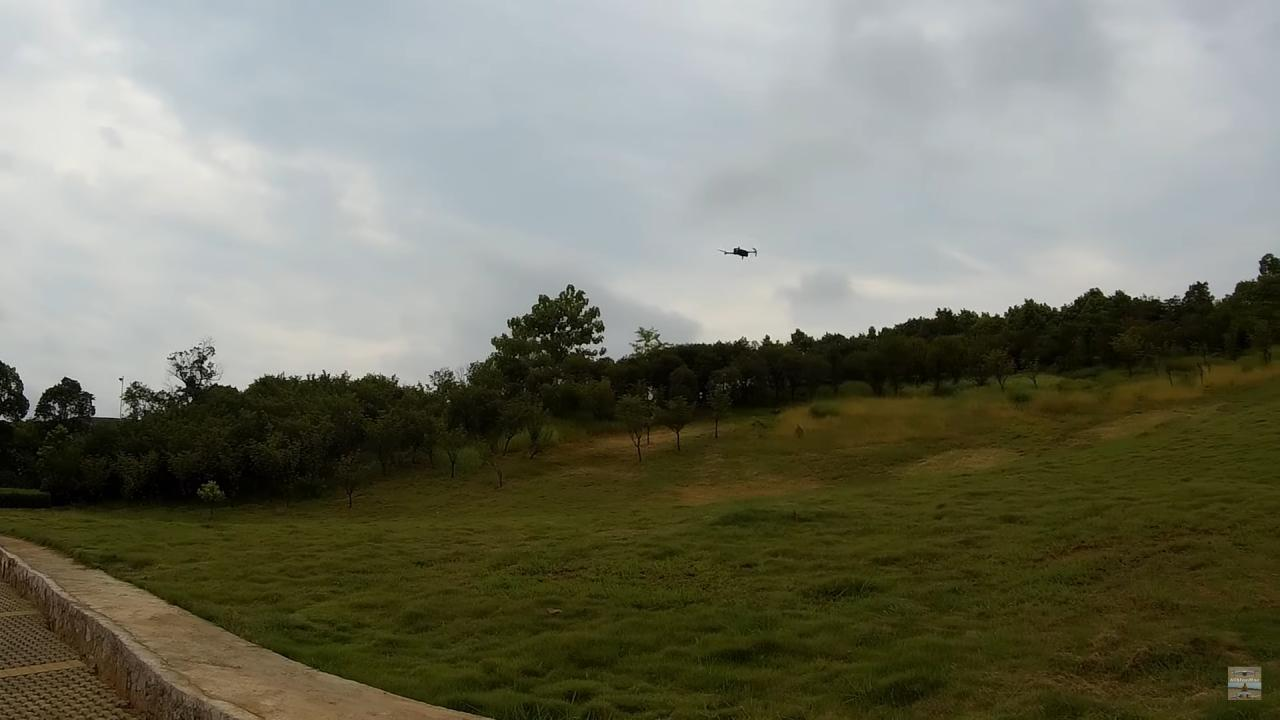Drone: (710, 237, 764, 267)
